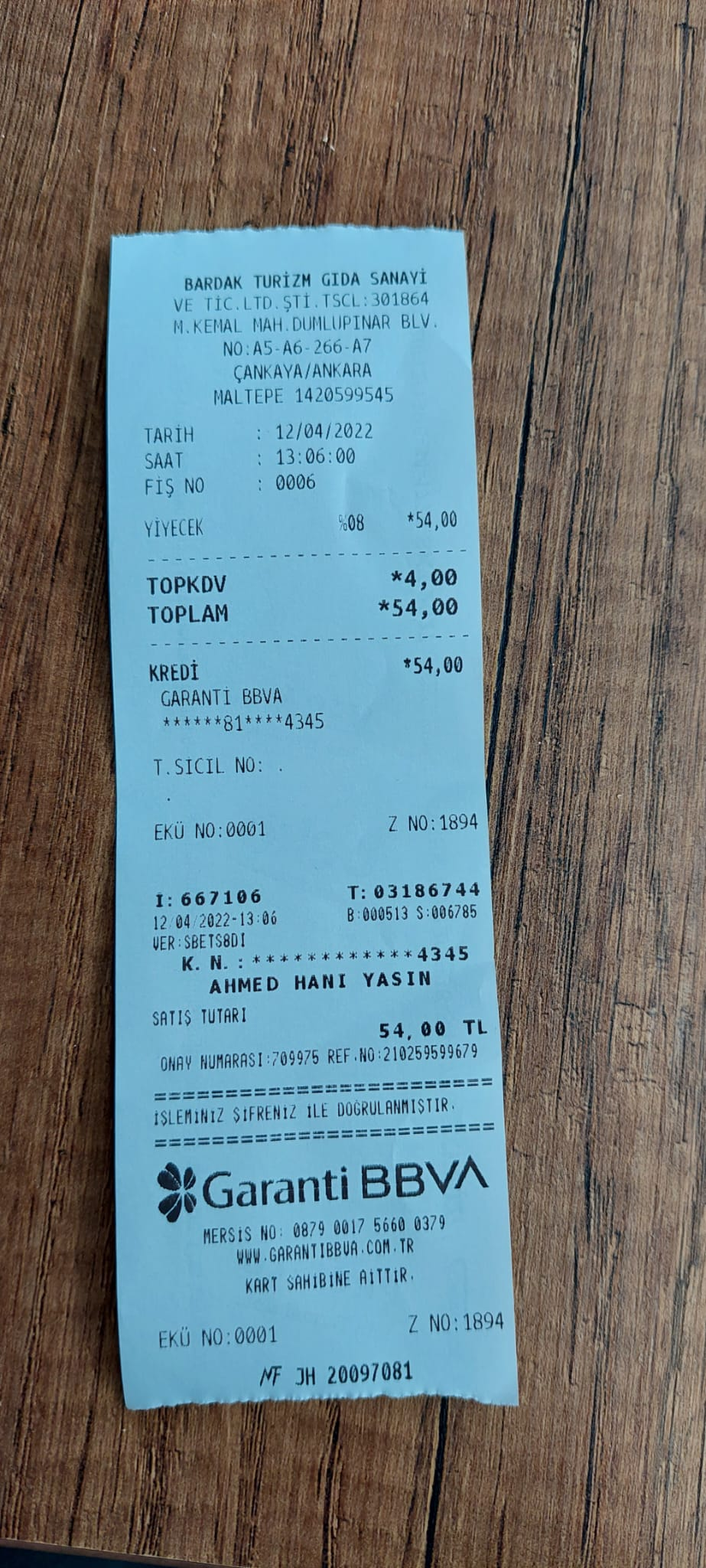date: (266, 414, 378, 445)
price: (386, 593, 466, 624)
workplace: (166, 261, 443, 383)
